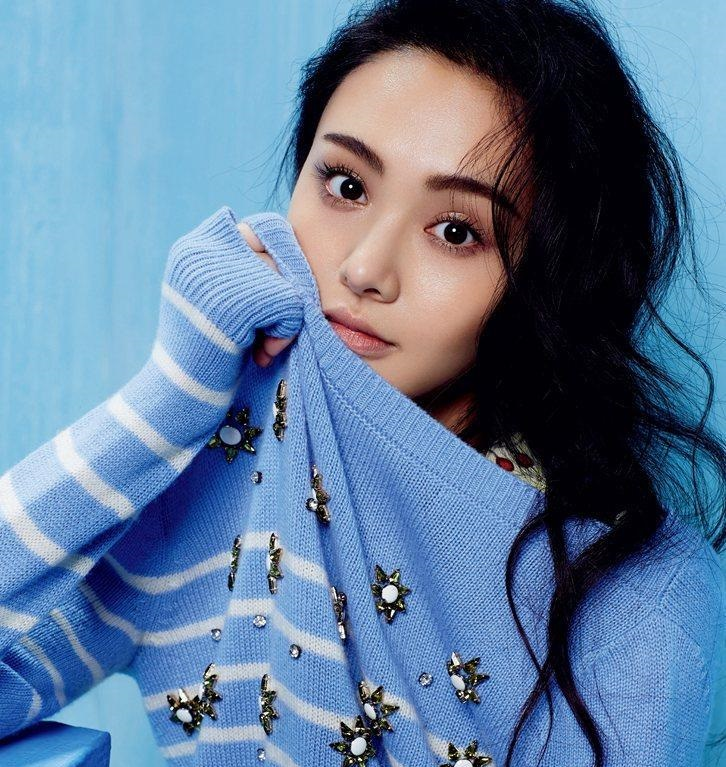face: (289, 51, 509, 401)
